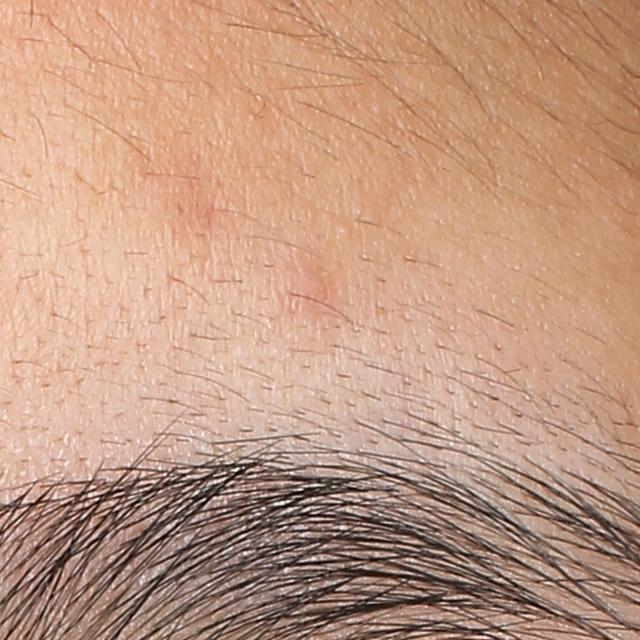papule: (281, 266, 330, 311)
